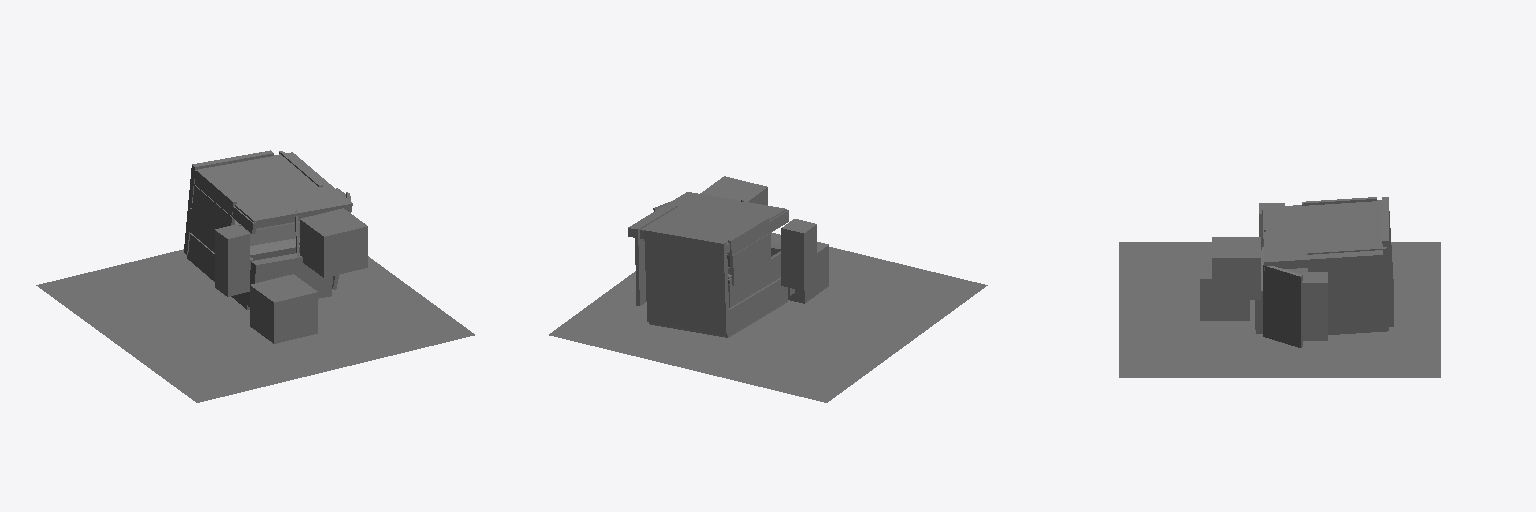
File: truck_simple_09_up.obj
The picture shows the model from 3 angles: view 1: azimuth 30°, elevation 25°; view 2: azimuth 150°, elevation 25°; view 3: azimuth 270°, elevation 25°; orthographic projection.
Parts seen in each view (by area): view 1: Plane, Cube.038, Cube.001_Cube.012, Cube.012_Cube.015, Cube.000_Cube.001, Cube.001_Cube, Cube.013, Cube.005, Cube.009, Cube.018, Cube.014, Cube.017 (+1 smaller); view 2: Plane, Cube.009, Cube.038, Cube.000_Cube.001, Cube.005, Cube.013, Cube.012_Cube.015, Cube.010, Cube.001_Cube.012, Cube.011, Cube.014; view 3: Plane, Cube.038, Cube.011, Cube.012_Cube.015, Cube.036, Cube.035, Cube.001_Cube.012, Cube.005, Cube.009.
Boxes of the visible parts, x1,y1,x2,y2 form: Plane: [36, 249, 474, 402]; Cube.038: [193, 152, 352, 228]; Cube.001_Cube.012: [250, 274, 317, 343]; Cube.012_Cube.015: [300, 208, 367, 277]; Cube.000_Cube.001: [215, 224, 249, 296]; Cube.001_Cube: [248, 253, 332, 306]; Cube.013: [192, 185, 234, 233]; Cube.005: [187, 233, 249, 309]; Cube.009: [184, 150, 273, 254]; Cube.018: [246, 221, 299, 245]; Cube.014: [194, 170, 236, 215]; Cube.017: [250, 238, 299, 260]; Plane: [549, 232, 987, 402]; Cube.009: [644, 228, 729, 335]; Cube.038: [628, 192, 786, 252]; Cube.000_Cube.001: [781, 219, 816, 290]; Cube.005: [649, 277, 787, 337]; Cube.013: [730, 233, 771, 285]; Cube.012_Cube.015: [700, 176, 767, 205]; Cube.010: [728, 251, 780, 307]; Cube.001_Cube.012: [773, 237, 828, 303]; Cube.011: [635, 205, 677, 305]; Cube.014: [728, 218, 768, 256]; Plane: [1119, 242, 1440, 377]; Cube.038: [1263, 200, 1383, 270]; Cube.011: [1307, 247, 1391, 323]; Cube.012_Cube.015: [1212, 237, 1260, 299]; Cube.036: [1263, 264, 1302, 347]; Cube.035: [1302, 272, 1327, 340]; Cube.001_Cube.012: [1200, 258, 1249, 320]; Cube.005: [1285, 269, 1388, 334]; Cube.009: [1382, 197, 1393, 326].
Size of the model in its own units: 7.69 by 2.86 by 7.69.